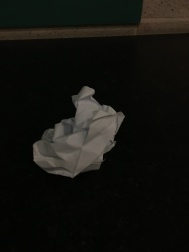can_black: (24, 74, 133, 188)
